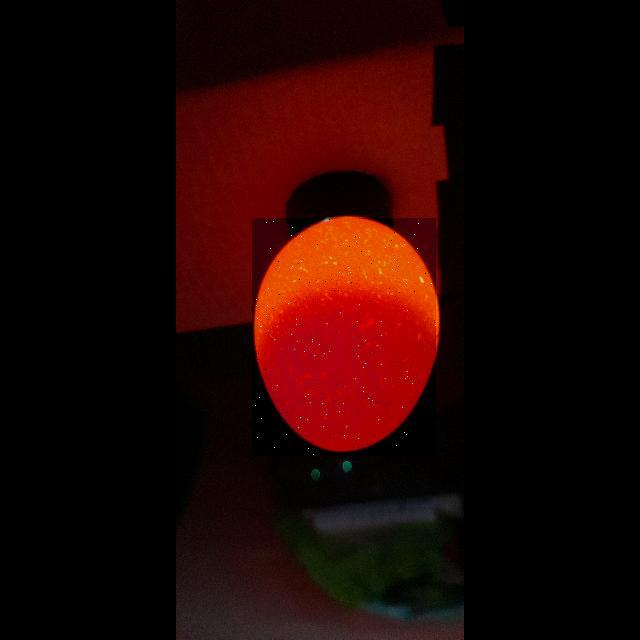Fertile: (252, 218, 436, 456)
